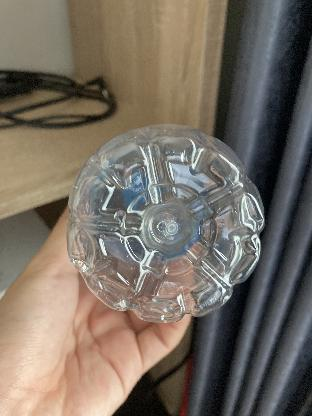Plastic Bottle: (64, 121, 270, 326)
